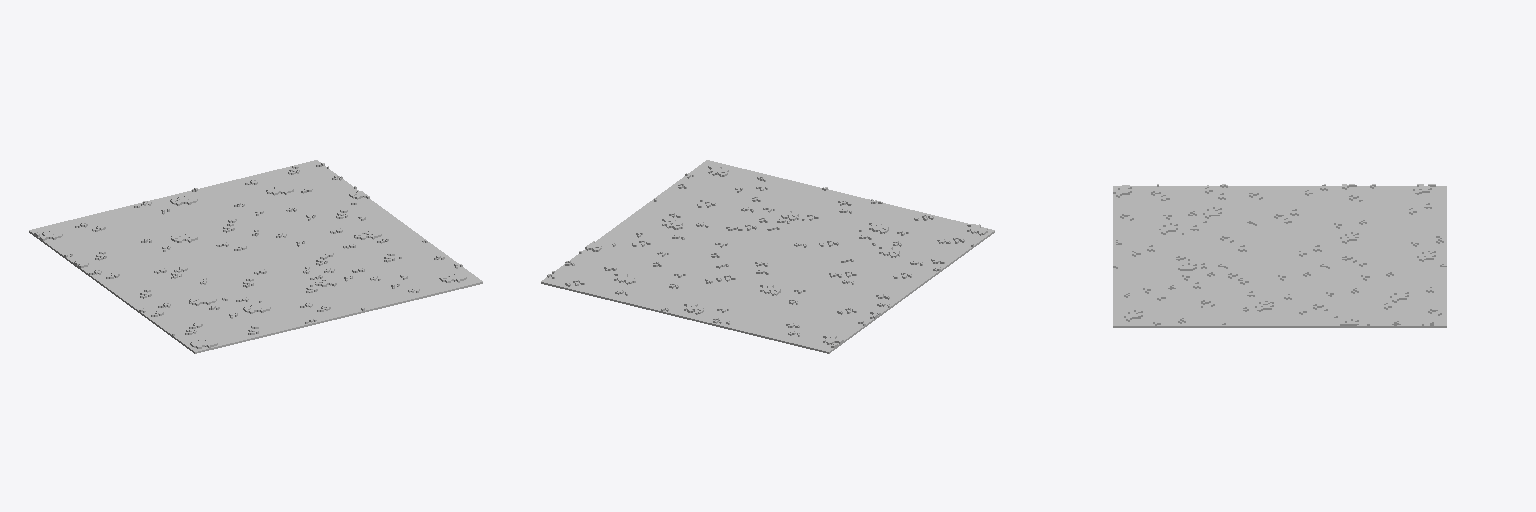
The model's file is grass.obj.
The picture shows the model from 3 angles: view 1: azimuth 30°, elevation 25°; view 2: azimuth 150°, elevation 25°; view 3: azimuth 270°, elevation 25°; orthographic projection.
Visible parts, largest first — view 1: object 1; view 2: object 1; view 3: object 1.
Boxes of the visible parts, <box> form: object 1: <box>29,160,482,353</box>; object 1: <box>541,160,994,353</box>; object 1: <box>1113,184,1446,327</box>.
Bounding box in the file's own units: 16 × 0.2 × 16.